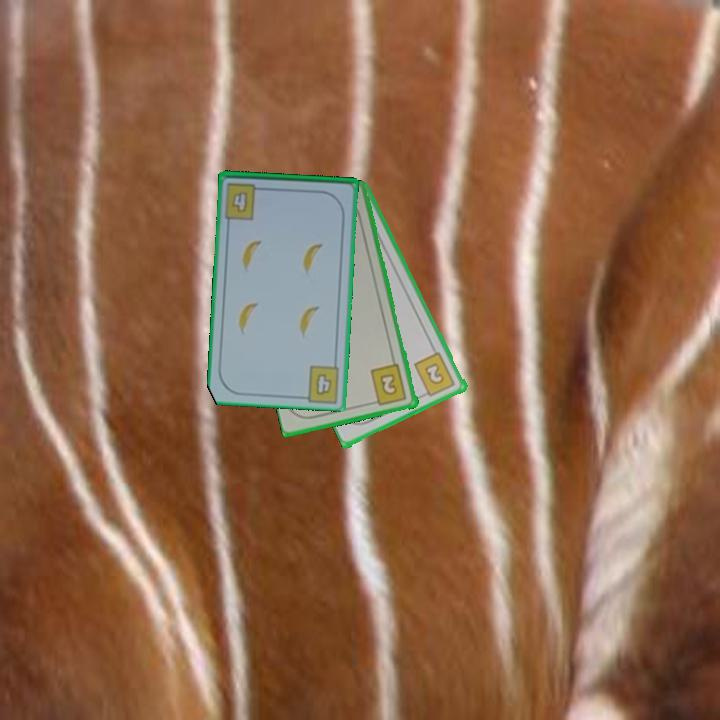2b: (411, 349, 458, 400), (367, 361, 410, 408)
4b: (223, 179, 267, 222), (312, 370, 335, 398)
